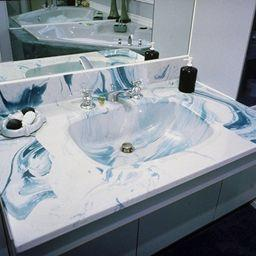Lavamanos: (2, 82, 254, 249)
